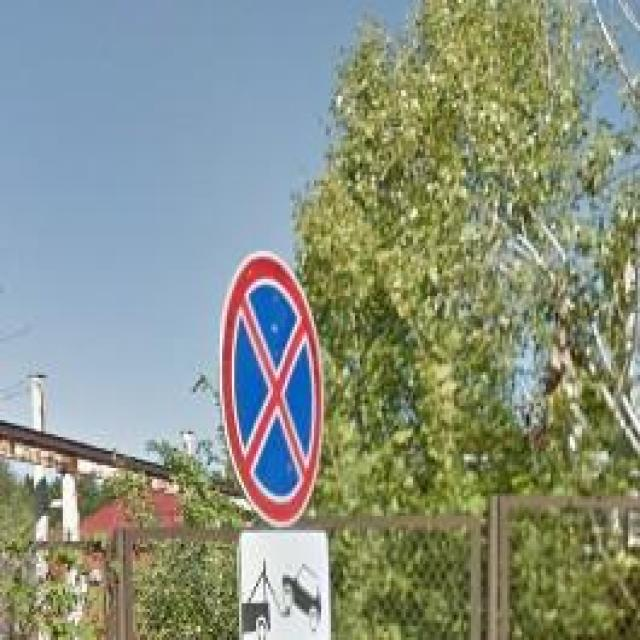Zakaz zatrzymywania sie: (217, 251, 324, 530)
